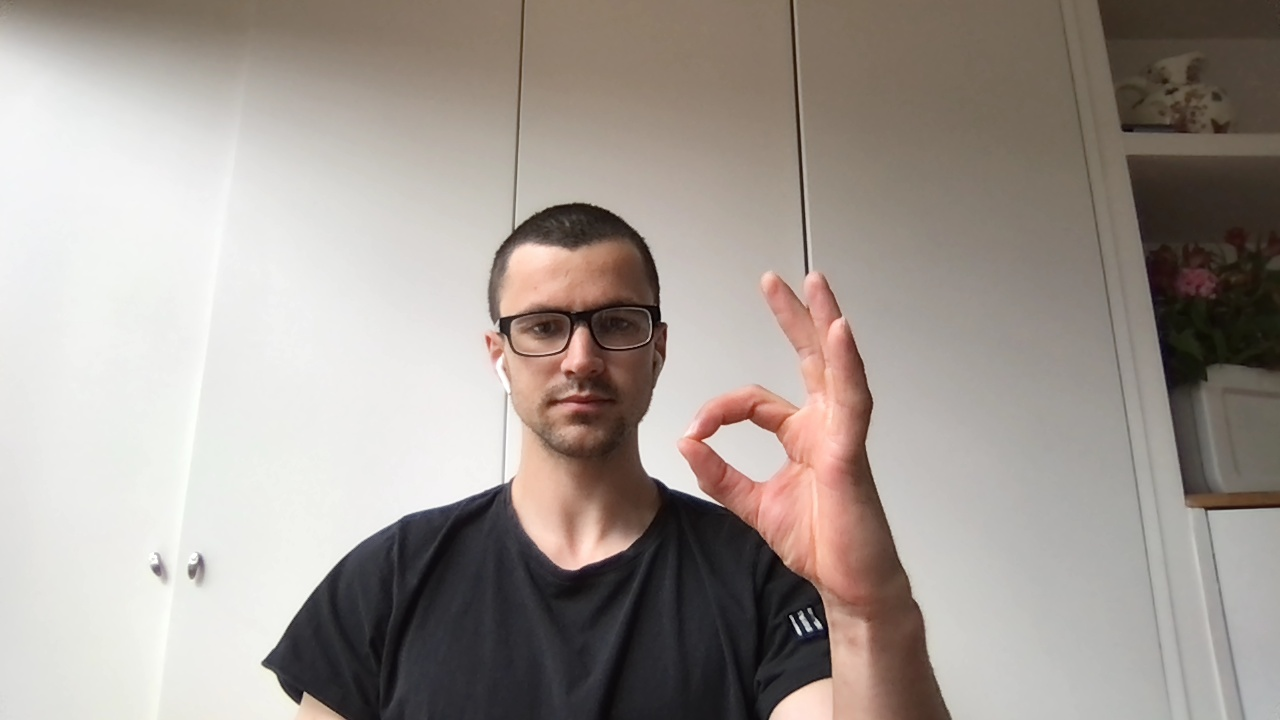thankYou: (677, 269, 899, 602)
